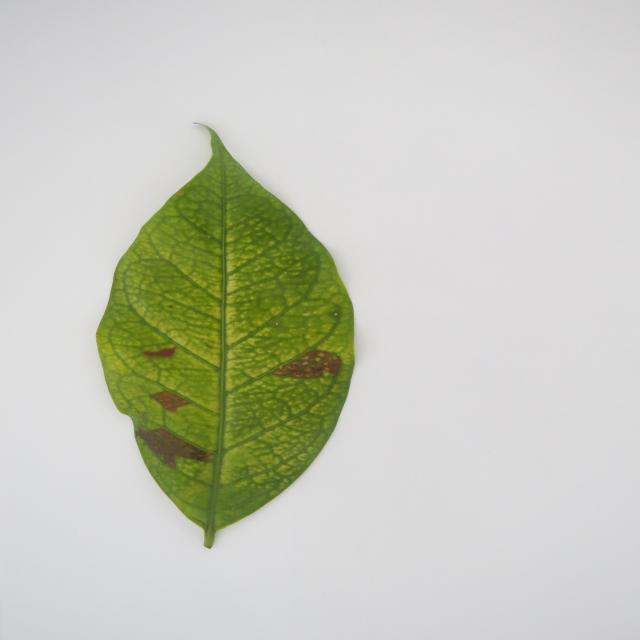DeficienciaNutricional-Hierro: (97, 129, 353, 548)
